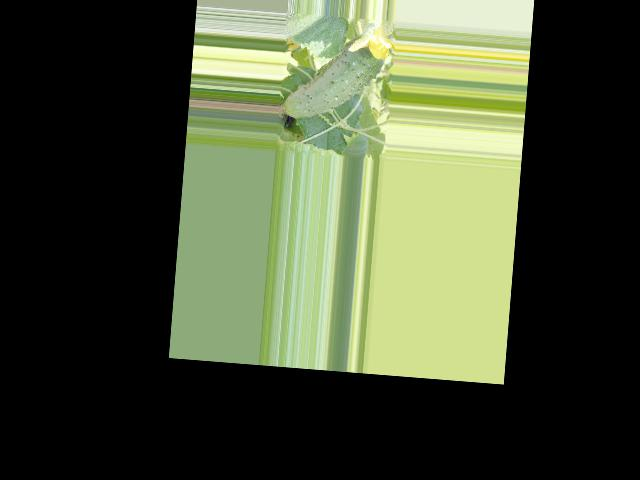cucumber: (277, 30, 386, 125)
